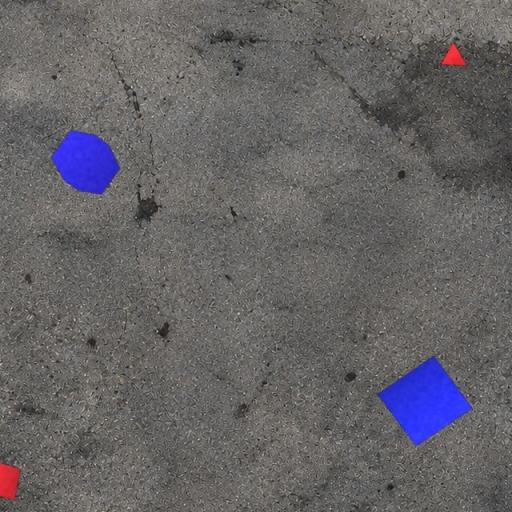BLUE_SQUARE: (376, 356, 474, 446)
RED_SQUARE: (0, 458, 21, 501)
